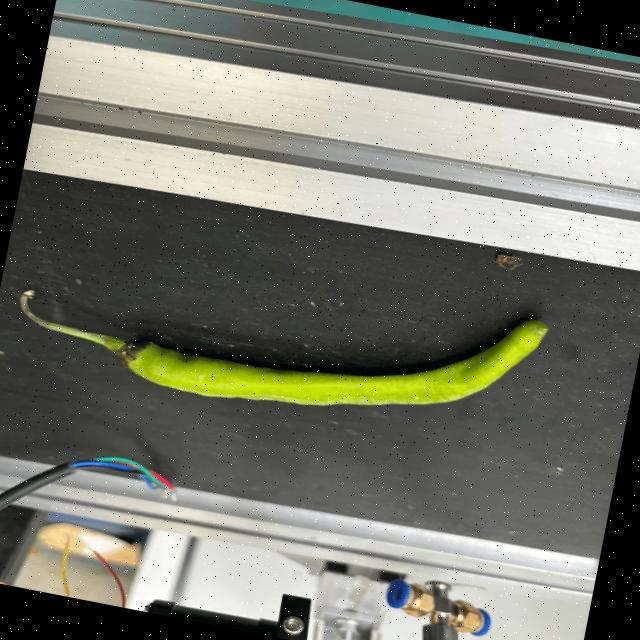chili: (115, 318, 552, 408)
